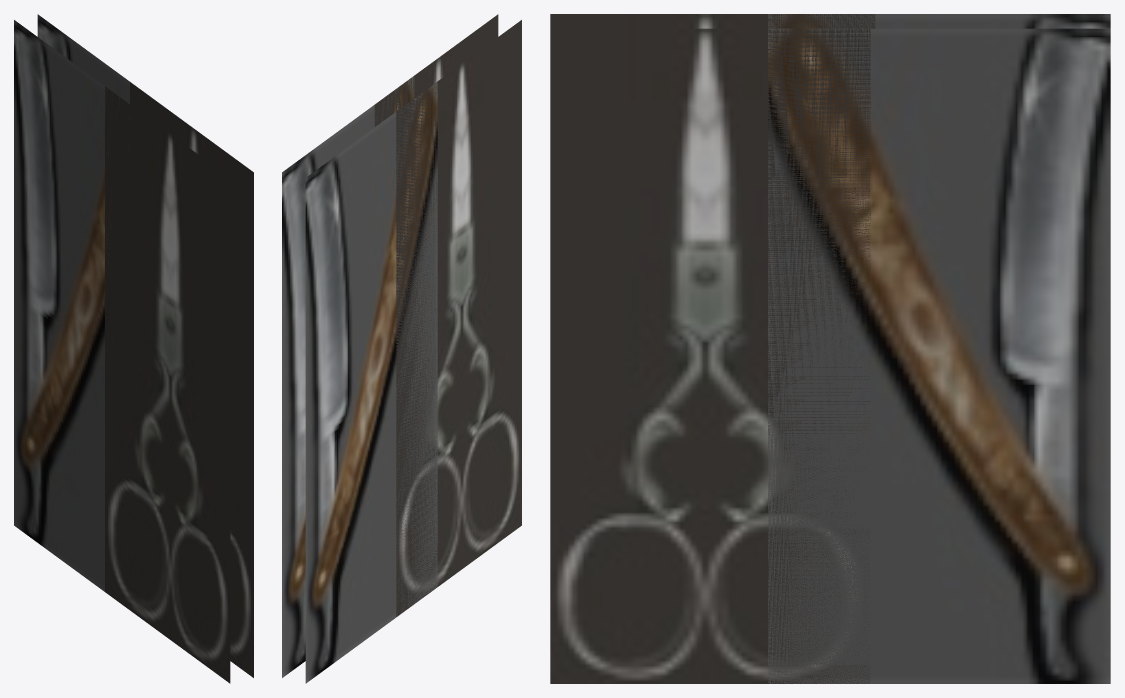
The model's file is sign1_eng_c_icon_barber.fbx.
3 renders of one model, left to right at view 1: azimuth 30°, elevation 25°; view 2: azimuth 150°, elevation 25°; view 3: azimuth 270°, elevation 25°, orthographic. The views are drawn at different scales.
Visible parts, largest first — view 1: icon_scissors, icon_razor; view 2: icon_razor, icon_scissors; view 3: icon_razor, icon_scissors.
Boxes of the visible parts, x1,y1,x2,y2 form: icon_scissors: [105, 82, 253, 683]; icon_razor: [14, 14, 142, 591]; icon_razor: [282, 76, 437, 683]; icon_scissors: [374, 14, 521, 616]; icon_razor: [768, 14, 1110, 683]; icon_scissors: [550, 14, 875, 683].
Size of the model in its own units: 16.67 by 345 by 267.
Materials: 1 (1 with a texture image).
